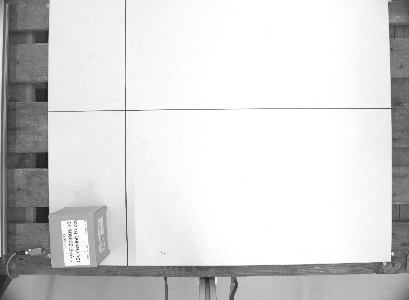b5: (46, 205, 112, 269)
